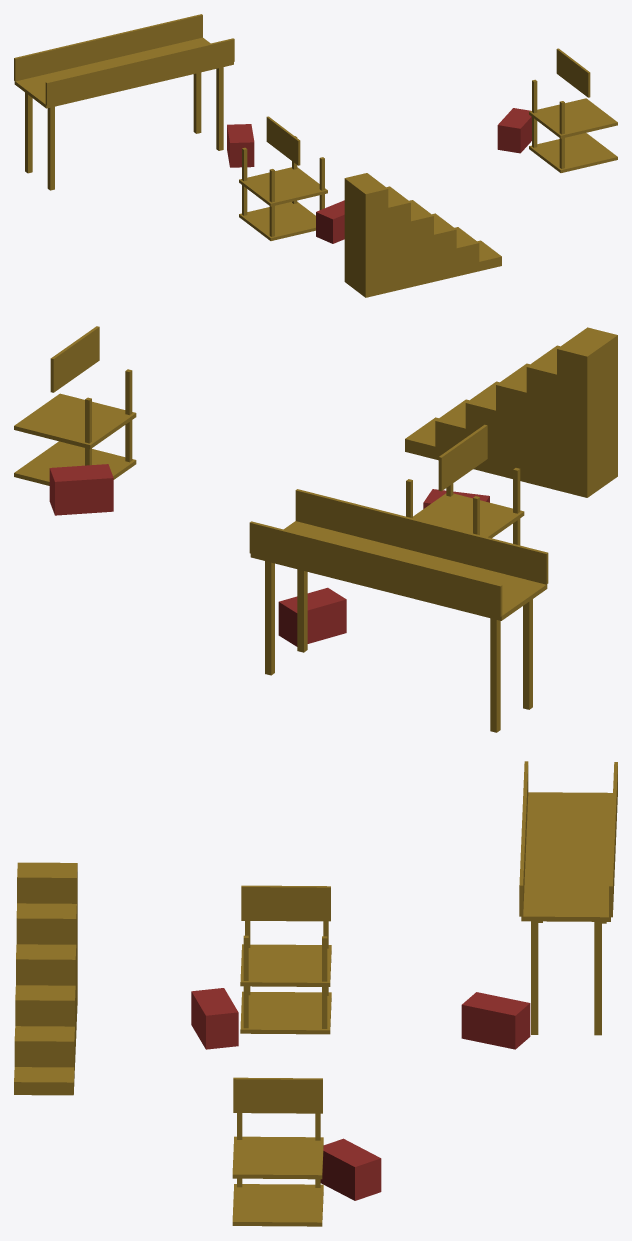
File: sdsc_doca_manutencao.glb
3 renders of one model, top to bottom at view 1: azimuth 30°, elevation 25°; view 2: azimuth 150°, elevation 25°; view 3: azimuth 270°, elevation 25°, orthographic. The views are drawn at different scales.
Parts seen in each view (by area): view 1: sdsc_doca_manutencao; view 2: sdsc_doca_manutencao; view 3: sdsc_doca_manutencao.
Part boxes in pixels (x1=…): sdsc_doca_manutencao: x1=14, y1=14, x2=617, y2=297; sdsc_doca_manutencao: x1=14, y1=326, x2=617, y2=732; sdsc_doca_manutencao: x1=14, y1=761, x2=617, y2=1226.
Bounding box in the file's own units: 19.72 × 4.54 × 16.16.
